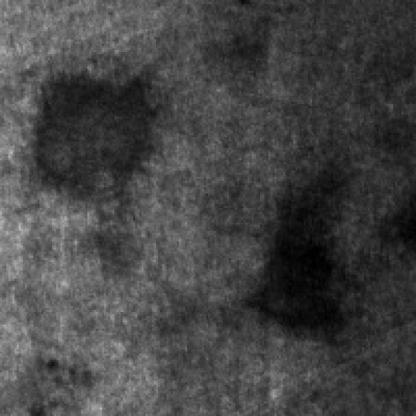patches: (19, 48, 179, 198), (250, 164, 354, 339)
